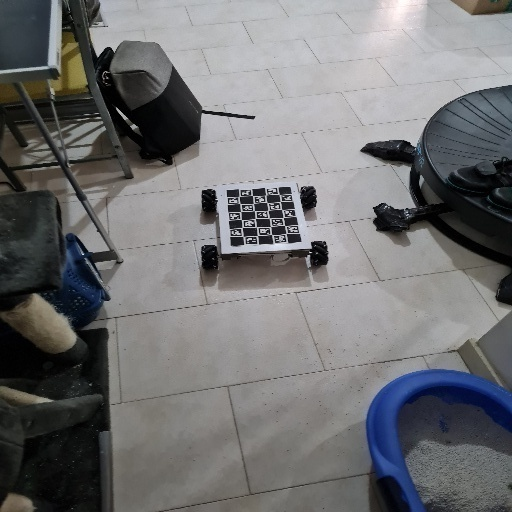Omniwheel: (199, 181, 330, 269)
